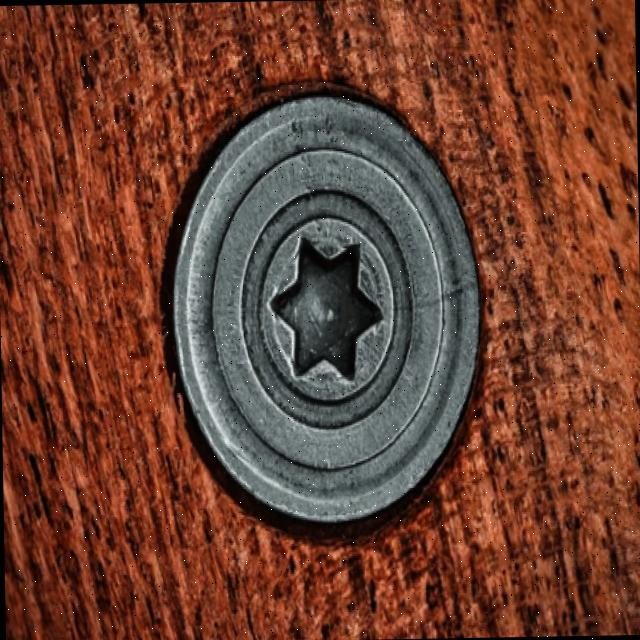Torx: (169, 89, 486, 528)
